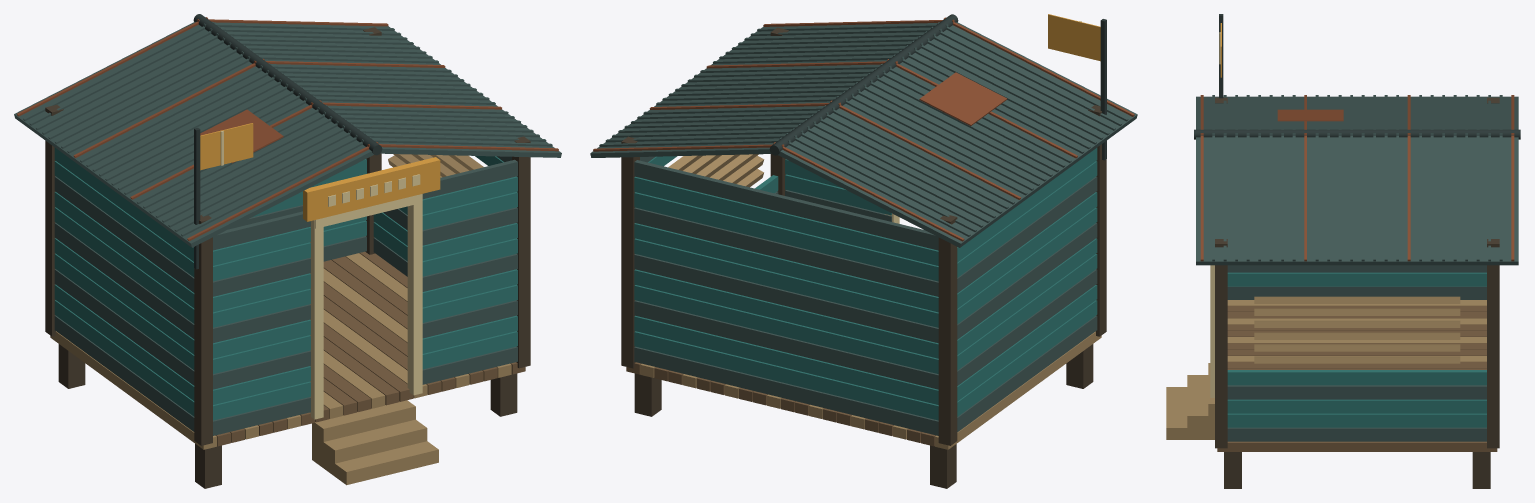
Rendered from SM_CustomsHut_01.glb.
The picture shows the model from 3 angles, left to right: view 1: azimuth 30°, elevation 25°; view 2: azimuth 150°, elevation 25°; view 3: azimuth 270°, elevation 25°; orthographic projection. The views are drawn at different scales.
Parts seen in each view (by area): view 1: SM_CustomsHut_01_M_DH_steel, SM_CustomsHut_01_M_DH_teal, SM_CustomsHut_01_M_DH_woodLight, SM_CustomsHut_01_M_DH_woodDark, SM_CustomsHut_01_M_DH_wood, SM_CustomsHut_01_M_DH_cream, SM_CustomsHut_01_M_DH_rust, SM_CustomsHut_01_M_DH_ochre, SM_CustomsHut_01_M_DH_iron (×2); view 2: SM_CustomsHut_01_M_DH_steel, SM_CustomsHut_01_M_DH_teal, SM_CustomsHut_01_M_DH_woodDark, SM_CustomsHut_01_M_DH_rust, SM_CustomsHut_01_M_DH_woodLight, SM_CustomsHut_01_M_DH_iron (×2), SM_CustomsHut_01_M_DH_wood, SM_CustomsHut_01_M_DH_ochre; view 3: SM_CustomsHut_01_M_DH_steel, SM_CustomsHut_01_M_DH_woodLight, SM_CustomsHut_01_M_DH_teal, SM_CustomsHut_01_M_DH_wood, SM_CustomsHut_01_M_DH_woodDark, SM_CustomsHut_01_M_DH_rust, SM_CustomsHut_01_M_DH_iron, SM_CustomsHut_01_M_DH_cream.
Boxes of the visible parts, left/top/right/bottom form: SM_CustomsHut_01_M_DH_steel: left=14, top=21, right=561, bottom=435; SM_CustomsHut_01_M_DH_teal: left=54, top=147, right=517, bottom=420; SM_CustomsHut_01_M_DH_woodLight: left=50, top=154, right=511, bottom=485; SM_CustomsHut_01_M_DH_woodDark: left=45, top=27, right=530, bottom=488; SM_CustomsHut_01_M_DH_wood: left=215, top=251, right=525, bottom=446; SM_CustomsHut_01_M_DH_cream: left=220, top=131, right=422, bottom=419; SM_CustomsHut_01_M_DH_rust: left=17, top=17, right=558, bottom=241; SM_CustomsHut_01_M_DH_ochre: left=200, top=123, right=440, bottom=221; SM_CustomsHut_01_M_DH_iron (×2): left=193, top=14, right=382, bottom=269; SM_CustomsHut_01_M_DH_steel: left=590, top=22, right=1137, bottom=435; SM_CustomsHut_01_M_DH_teal: left=634, top=148, right=1097, bottom=420; SM_CustomsHut_01_M_DH_woodDark: left=621, top=27, right=1106, bottom=488; SM_CustomsHut_01_M_DH_rust: left=593, top=17, right=1134, bottom=241; SM_CustomsHut_01_M_DH_woodLight: left=640, top=154, right=1101, bottom=449; SM_CustomsHut_01_M_DH_iron (×2): left=769, top=14, right=1106, bottom=160; SM_CustomsHut_01_M_DH_wood: left=626, top=362, right=935, bottom=446; SM_CustomsHut_01_M_DH_ochre: left=1048, top=14, right=1100, bottom=61; SM_CustomsHut_01_M_DH_steel: left=1196, top=95, right=1518, bottom=441; SM_CustomsHut_01_M_DH_woodLight: left=1166, top=296, right=1486, bottom=439; SM_CustomsHut_01_M_DH_teal: left=1227, top=272, right=1486, bottom=427; SM_CustomsHut_01_M_DH_wood: left=1217, top=306, right=1497, bottom=451; SM_CustomsHut_01_M_DH_woodDark: left=1215, top=97, right=1499, bottom=488; SM_CustomsHut_01_M_DH_rust: left=1200, top=95, right=1514, bottom=261; SM_CustomsHut_01_M_DH_iron: left=1194, top=129, right=1520, bottom=139; SM_CustomsHut_01_M_DH_cream: left=1210, top=32, right=1220, bottom=397.
Size of the model in its own units: 5.02 by 4.7 by 4.55.
